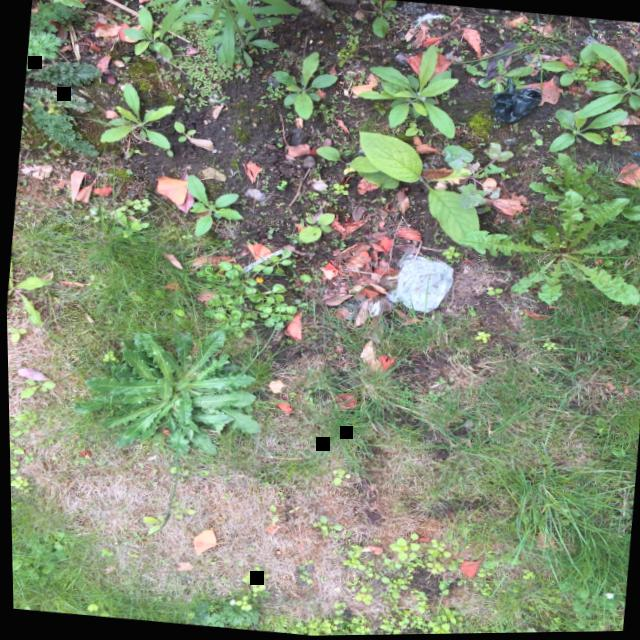Plastic film: (383, 247, 452, 314), (490, 79, 541, 123), (339, 295, 394, 321)
